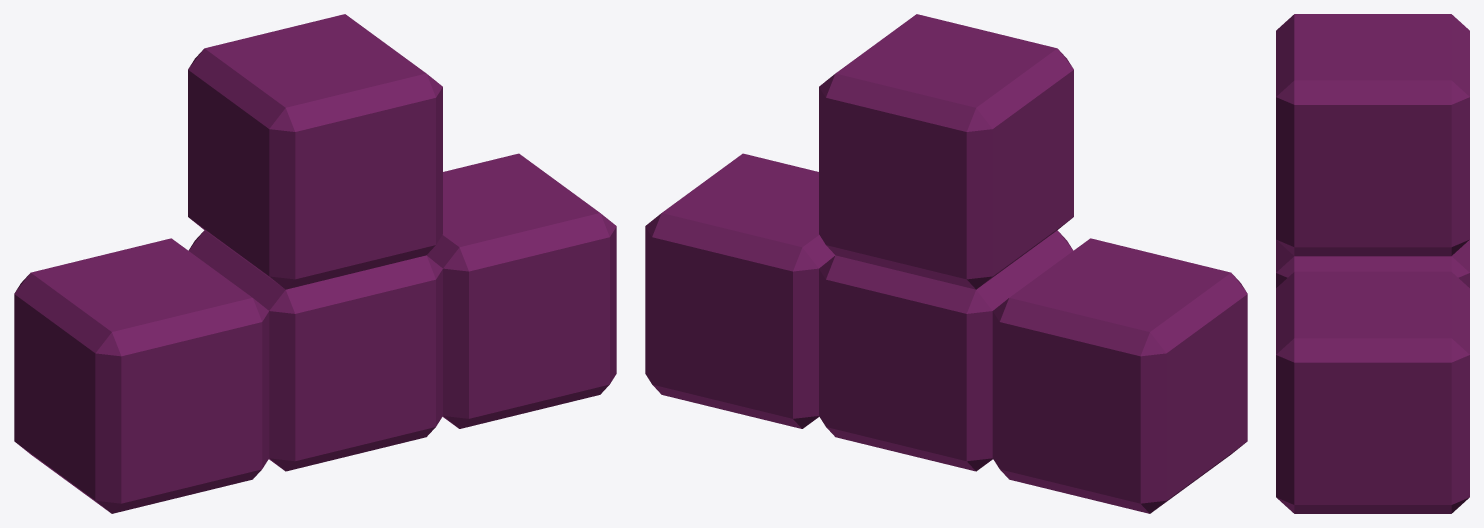
File: teewee.fbx
3 renders of one model, left to right at view 1: azimuth 30°, elevation 25°; view 2: azimuth 150°, elevation 25°; view 3: azimuth 270°, elevation 25°, orthographic. The views are drawn at different scales.
Parts seen in each view (by area): view 1: T; view 2: T; view 3: T.
Part boxes in pixels (left/top/right/bottom): T: left=14, top=14, right=616, bottom=513; T: left=645, top=14, right=1247, bottom=513; T: left=1276, top=14, right=1469, bottom=513.
Bounding box in the file's own units: 300 × 200 × 100.
